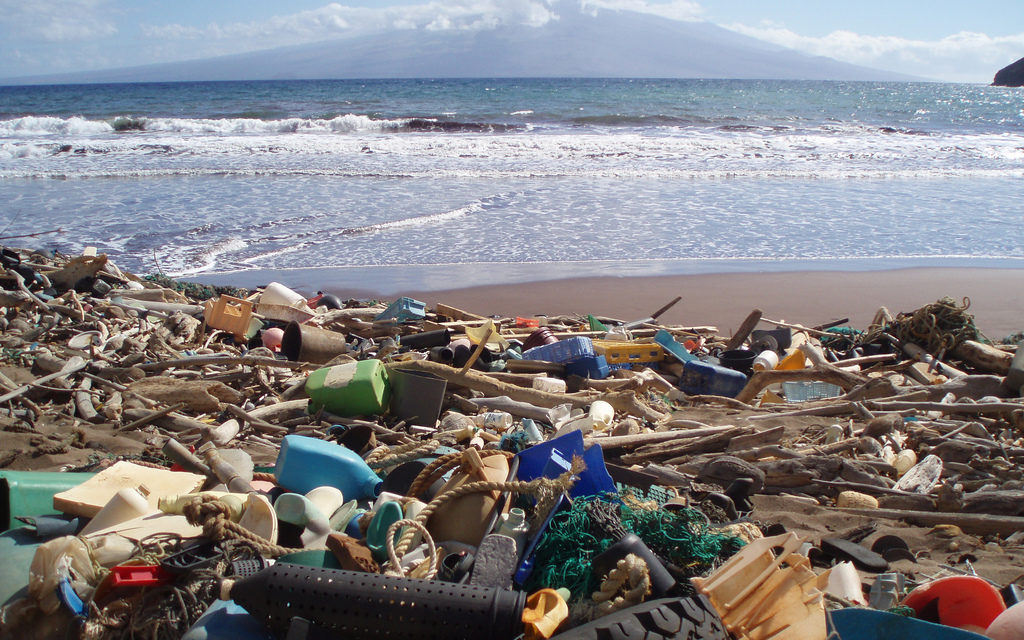litter: (526, 464, 752, 595), (215, 552, 531, 639), (402, 437, 599, 558), (90, 515, 242, 640), (1, 419, 152, 529), (708, 519, 841, 640), (552, 571, 779, 640), (71, 441, 224, 527), (891, 566, 1024, 631), (277, 430, 394, 496), (654, 328, 752, 396), (36, 538, 107, 618), (529, 334, 611, 383), (280, 318, 358, 361), (204, 287, 253, 336)
